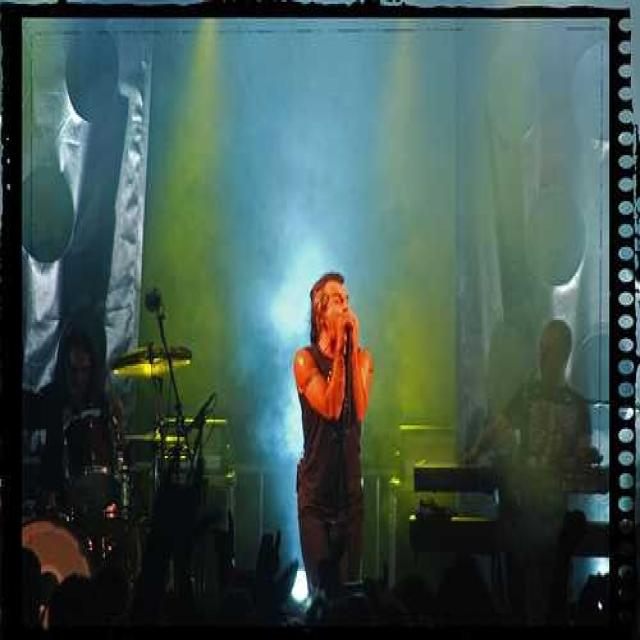microphone: (136, 276, 176, 333), (339, 314, 369, 343)
